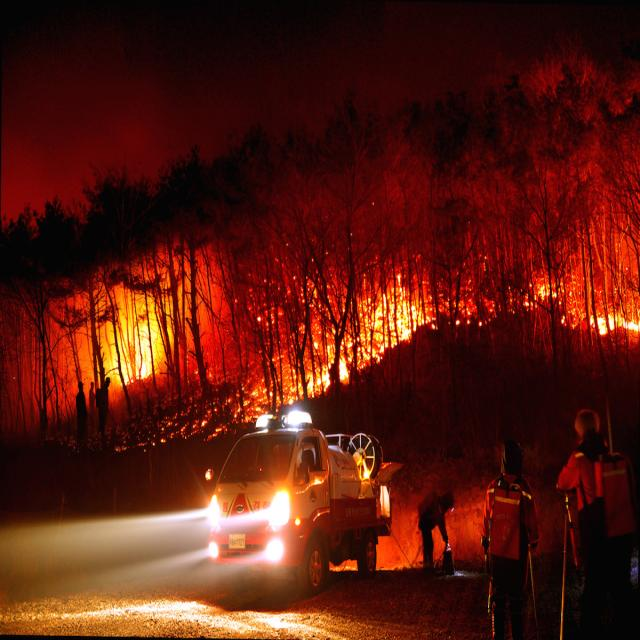Fire: (270, 269, 624, 438), (106, 298, 184, 384)
